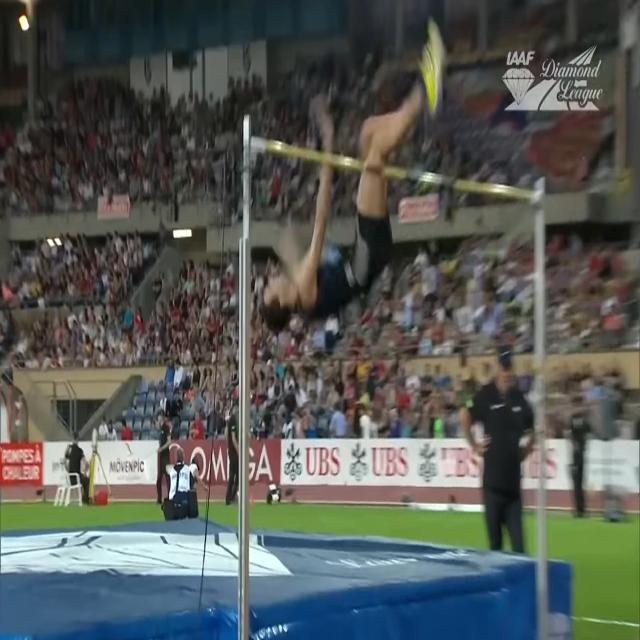land: (263, 18, 441, 332)
